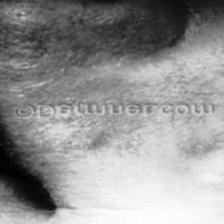Potentially Malignant Skin Tumors: (62, 118, 126, 156)
